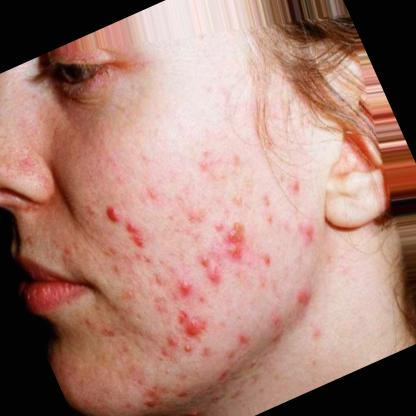Acne: (168, 296, 218, 348), (214, 213, 260, 269), (189, 240, 230, 288), (165, 269, 202, 306), (96, 192, 127, 230)
